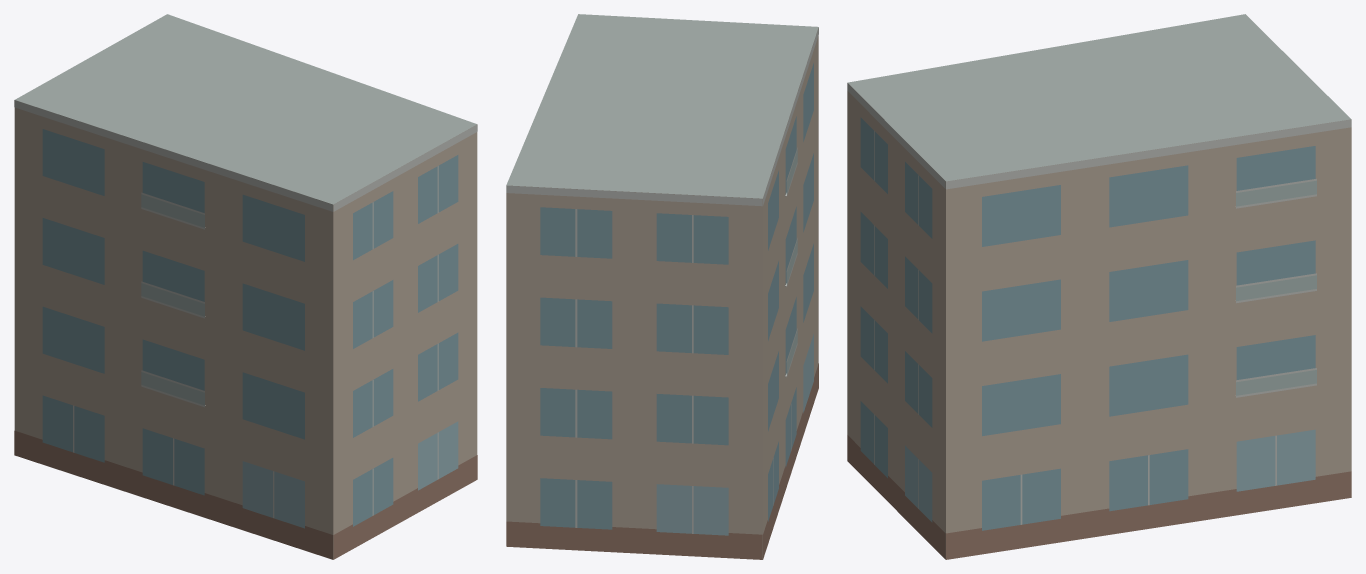
Rendered from survey-upis-32855257.glb.
3 views of the same model, side by side, from view 1: azimuth 30°, elevation 25°; view 2: azimuth 150°, elevation 25°; view 3: azimuth 270°, elevation 25° (orthographic). The views are drawn at different scales.
Parts seen in each view (by area): view 1: survey-upis-32855257.tmp; view 2: survey-upis-32855257.tmp; view 3: survey-upis-32855257.tmp.
Part boxes in pixels (left/top/right/bottom): survey-upis-32855257.tmp: left=14, top=14, right=477, bottom=559; survey-upis-32855257.tmp: left=506, top=14, right=818, bottom=559; survey-upis-32855257.tmp: left=847, top=14, right=1351, bottom=559.
Size of the model in its own units: 11.02 by 11.6 by 14.02.
